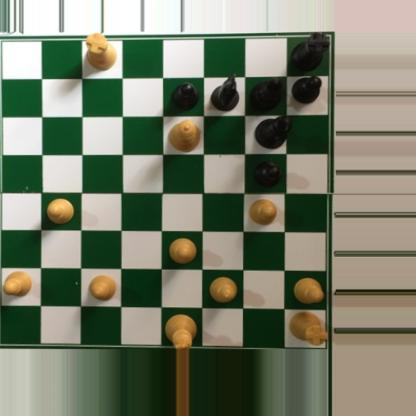black-bishop: (251, 74, 283, 111)
black-king: (252, 114, 292, 150)
black-knight: (209, 72, 241, 111)
black-pawn: (291, 74, 322, 104), (170, 82, 199, 111), (252, 161, 281, 189)
black-rook: (287, 31, 327, 73)
white-king: (160, 312, 198, 350)
white-pawn: (86, 272, 118, 303), (208, 275, 240, 305), (292, 277, 325, 306), (168, 236, 198, 266), (248, 198, 279, 226), (1, 269, 34, 295), (45, 198, 75, 225)
white-queen: (166, 118, 201, 154)
white-rook: (286, 308, 328, 346), (81, 32, 116, 73)
